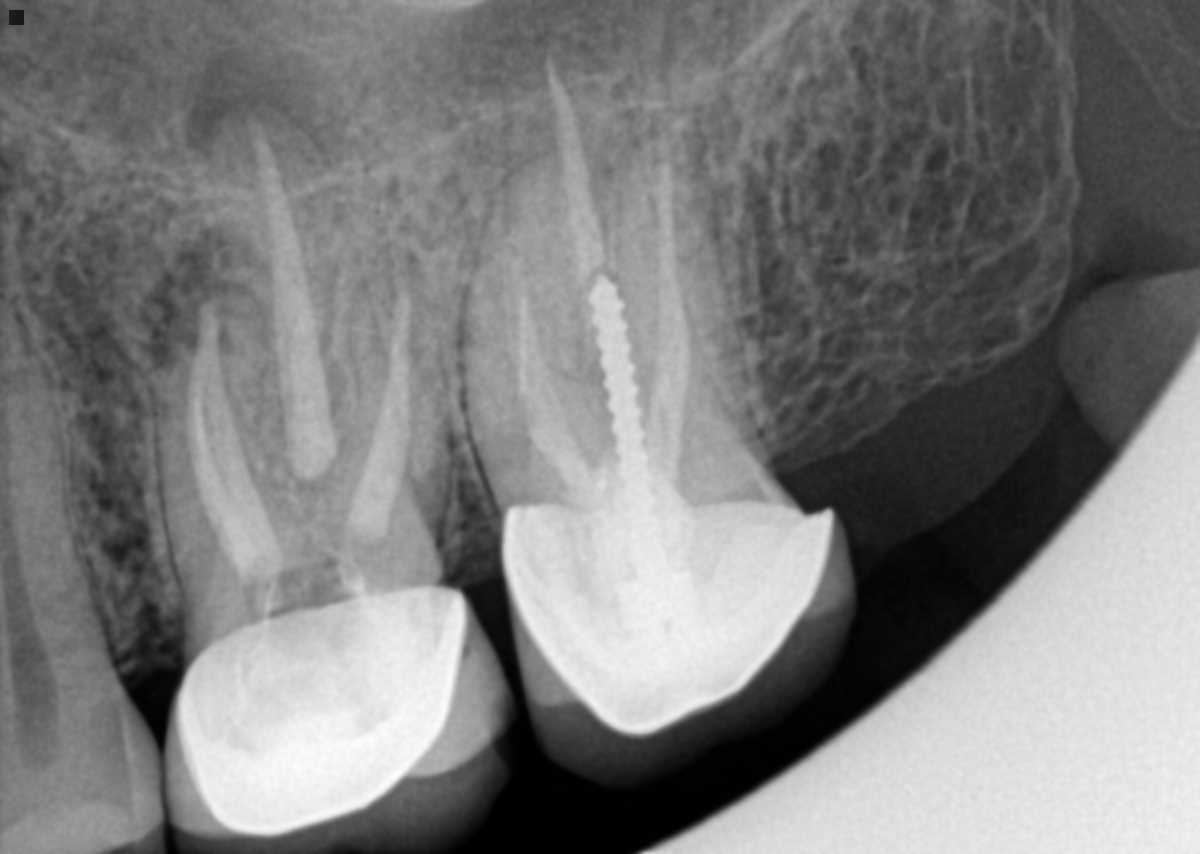Apical Lesion: (175, 33, 345, 158), (136, 219, 278, 349)
Distal Root: (613, 120, 779, 480), (332, 241, 455, 546)
Main Canal: (0, 457, 56, 684)
Main Root: (0, 289, 115, 693)
Mesial Root: (464, 150, 620, 520), (152, 281, 306, 607)
Palatal Root: (501, 37, 739, 488), (207, 111, 398, 561)
Root Canal Filling: (250, 118, 332, 474), (188, 307, 283, 588), (350, 295, 412, 537), (645, 149, 689, 463), (525, 299, 597, 482), (546, 59, 600, 279)
